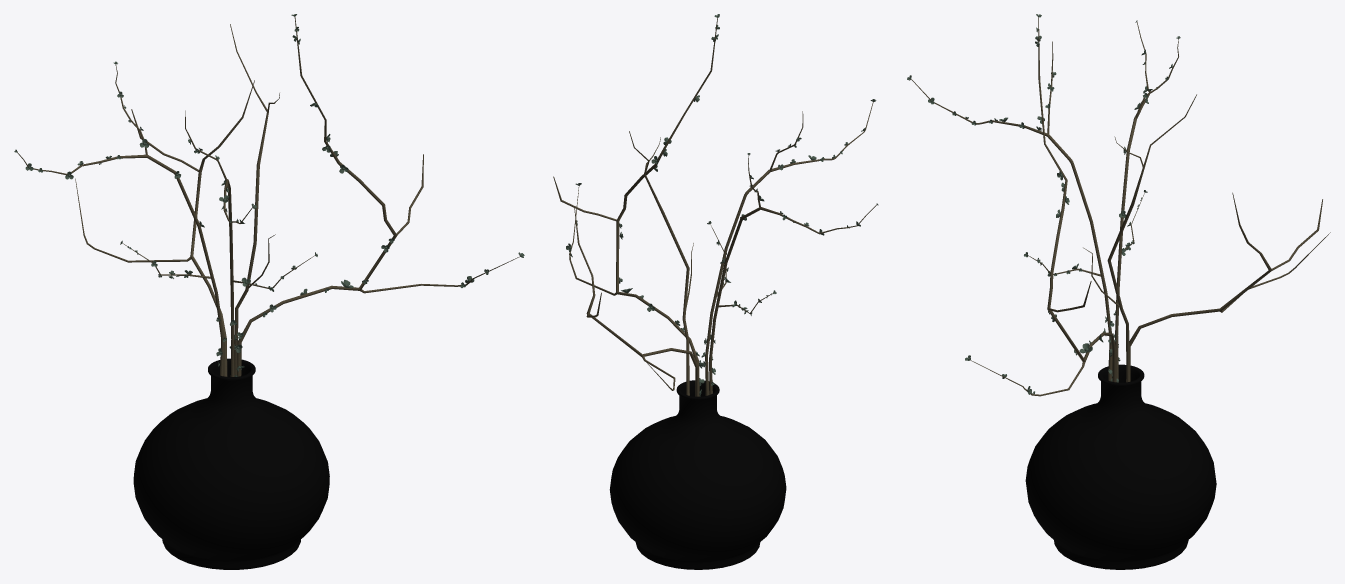
Rendered from Plant_Pot.glb.
3 views of the same model, side by side, from view 1: azimuth 30°, elevation 25°; view 2: azimuth 150°, elevation 25°; view 3: azimuth 270°, elevation 25° (orthographic). The views are drawn at different scales.
Parts seen in each view (by area): view 1: VRay-033; view 2: VRay-033; view 3: VRay-033.
Part boxes in pixels (bbox=[...]): VRay-033: bbox=[14, 14, 524, 569]; VRay-033: bbox=[553, 14, 878, 569]; VRay-033: bbox=[907, 14, 1330, 569].
Bounding box in the file's own units: 0.3993 × 0.4993 × 0.3565.
3 materials, 2 textured.
